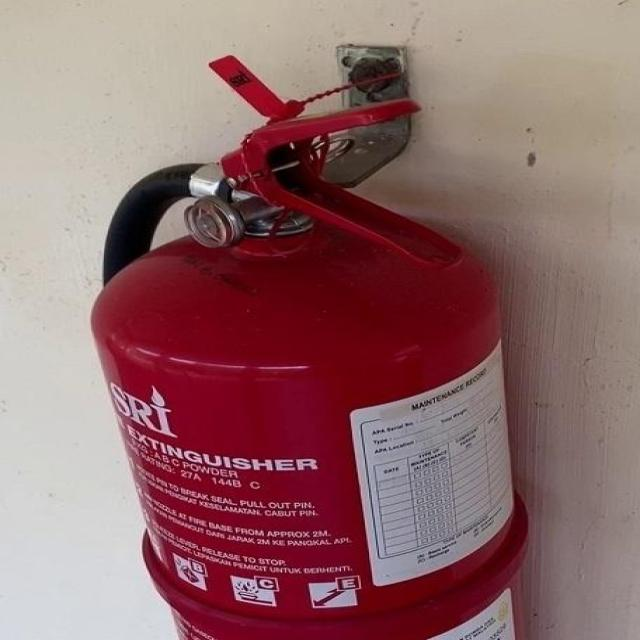fire_extinguisher: (82, 49, 531, 639)
